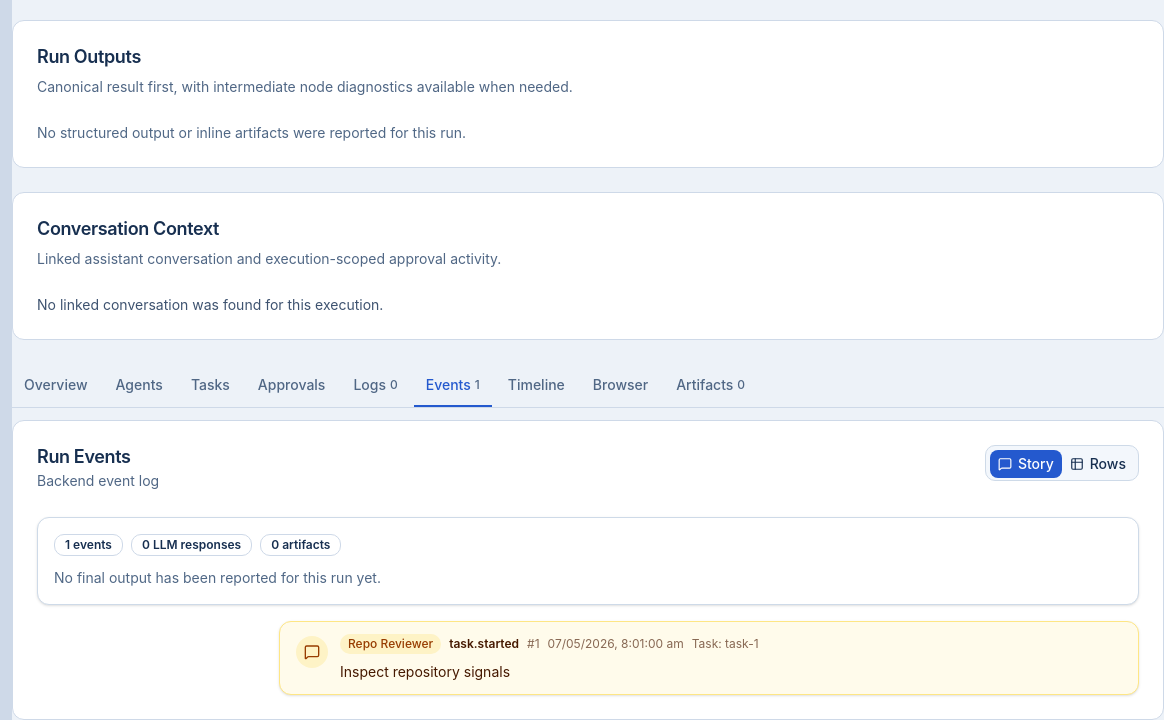
Test: RunDetailWorkspace › keeps rows available as the backup event view
(page scrolled)
Step 1. Click the button "Rows" → (1098, 464), box [1062,450,1134,478]
(page scrolled)
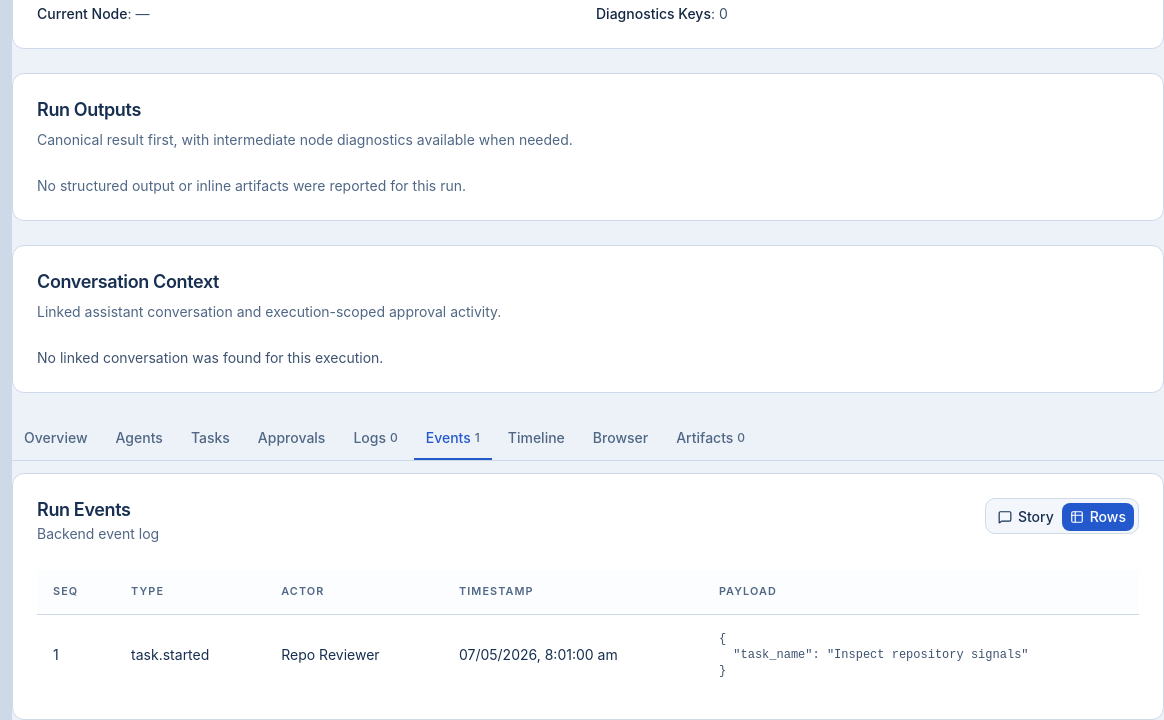
Expected: the column heading "Seq" is shown, [37,570,115,614]
